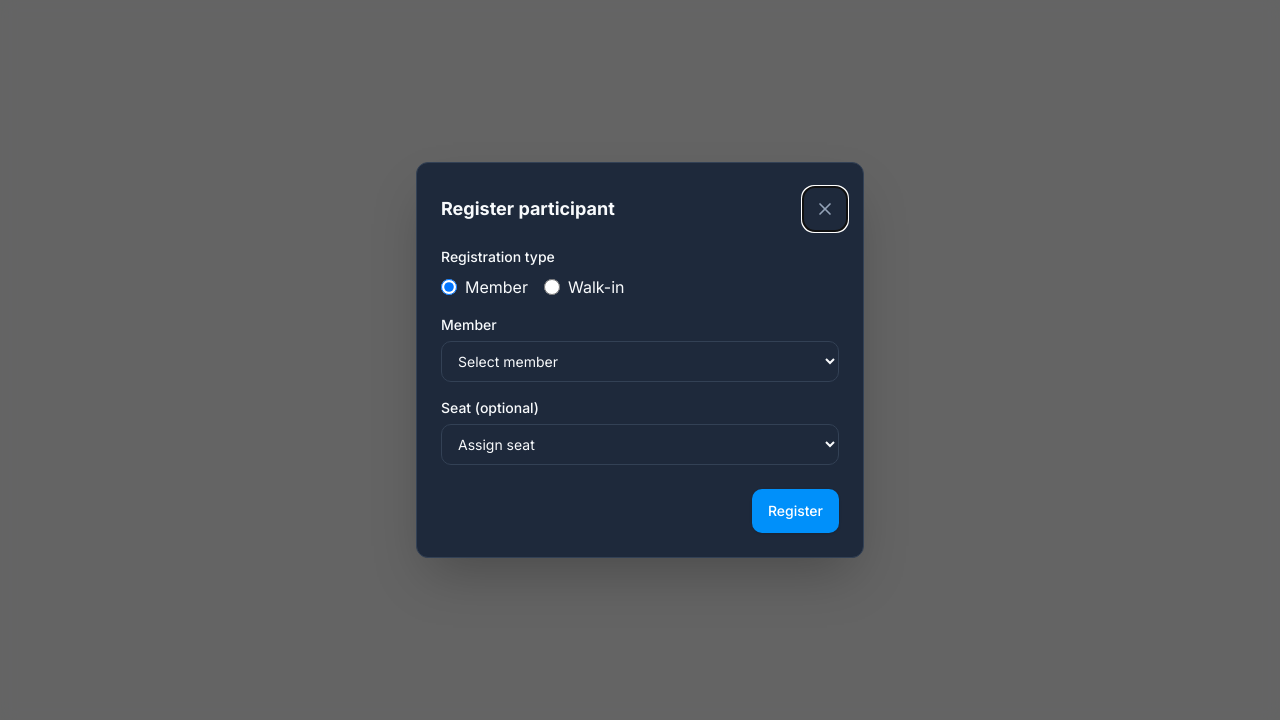
Test case: RegisterParticipantModal › switches to walk-in mode showing name input
What coordinates should you click on to do the following:
click the radio button labelled "Walk-in"
I would click on:
 (552, 287)
Its box is x1=544 y1=279 x2=560 y2=295.
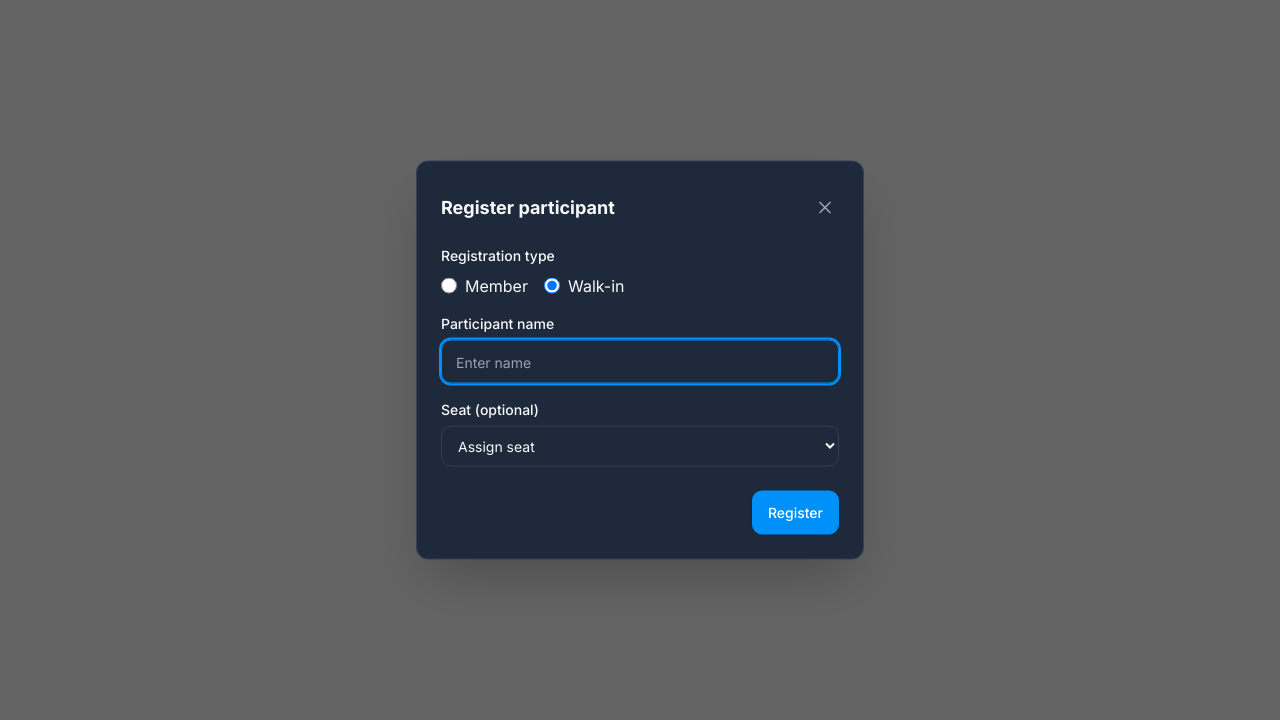
expect the radio button labelled "Walk-in" is checked: met, box x1=544 y1=278 x2=560 y2=294
expect the field with placeholder "Enter name" is shown: met, box x1=441 y1=340 x2=839 y2=384
expect the dropdown with test id "member-select" is gone: met
